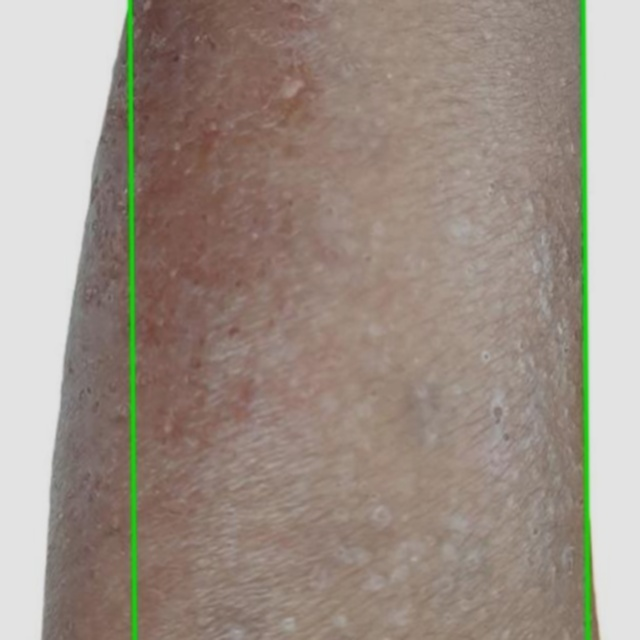Atopic Dermatitis: (0, 0, 134, 639), (583, 0, 639, 639)
